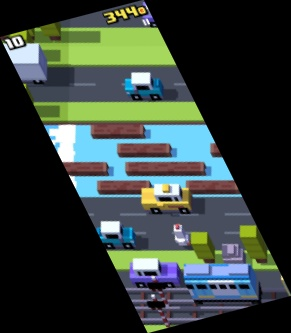car: (129, 257, 182, 290), (141, 184, 193, 215), (92, 220, 138, 251), (124, 73, 165, 101), (143, 3, 182, 28)
duck: (172, 223, 193, 247)
light off: (146, 294, 173, 330), (146, 276, 171, 309)
log: (125, 162, 204, 175), (58, 162, 109, 178), (89, 124, 147, 138), (115, 143, 173, 157), (187, 179, 245, 193), (95, 181, 152, 194), (211, 143, 248, 156)
rail: (118, 286, 291, 306), (128, 304, 253, 325)
rock: (221, 243, 247, 267)
train: (182, 263, 262, 304)
tree: (238, 224, 269, 263), (189, 231, 216, 265), (15, 83, 38, 111), (39, 16, 62, 42), (10, 29, 34, 52)
truck: (1, 43, 47, 84)
water: (40, 123, 243, 198)
